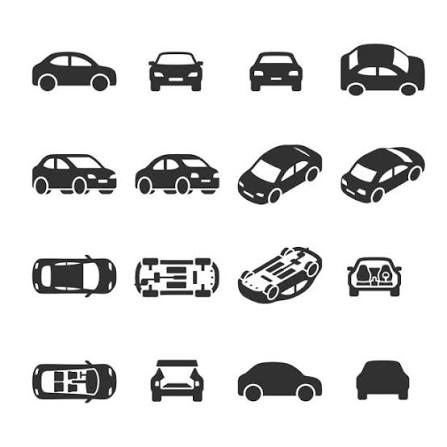car: (29, 152, 117, 195)
